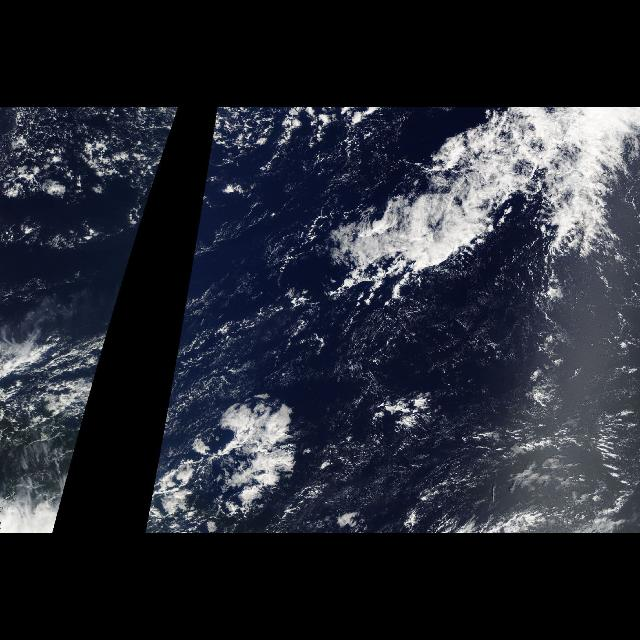Fish: (317, 111, 637, 311)
Gravel: (200, 110, 384, 200), (5, 110, 179, 200)
